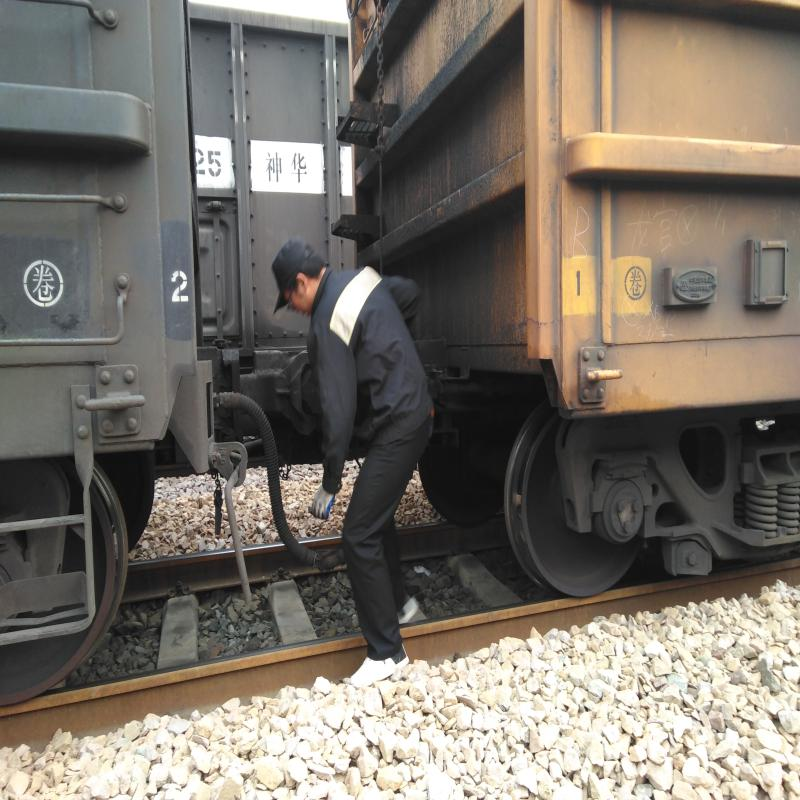train: (440, 24, 800, 597)
